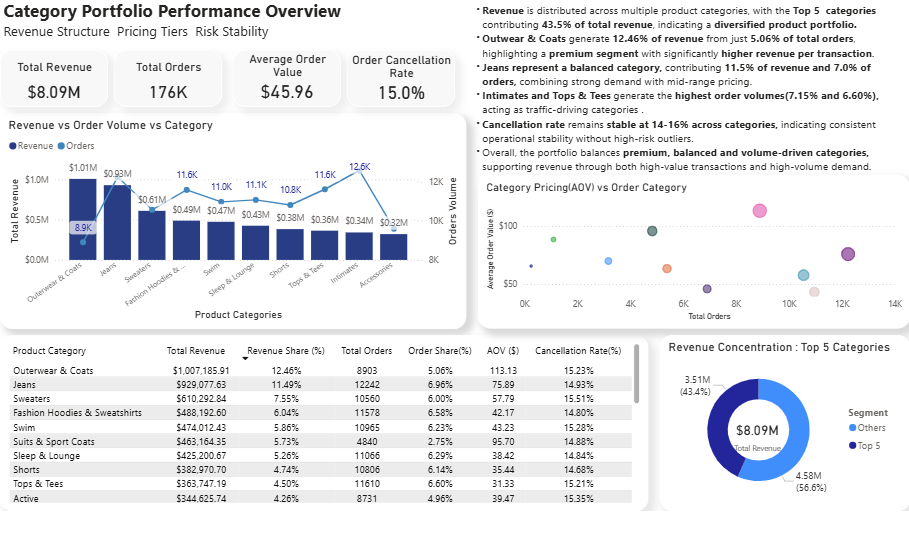

The page's visual inventory and layout, read from the dashboard file:
{"tool":"powerbi","page":{"name":"Category Portfolio","canvas":[1280,720],"ordinal":0},"visuals":[{"type":"card","title":"Total Revenue","fields":{"Values":["final_category_performance.Total Revenue"]},"box":[0,72,152,80],"z":0,"group":"g1"},{"type":"lineClusteredColumnComboChart","title":"Revenue vs Order Volume vs Category","fields":{"Category":["final_category_performance.product_category"],"Y":["final_category_performance.Total Revenue"],"Y2":["Sum(final_category_performance.total_orders)"]},"box":[0,160,656,304],"z":0},{"type":"card","title":"Total Orders","fields":{"Values":["final_category_performance.Total Orders"]},"box":[160,72,152,80],"z":1000,"group":"g1"},{"type":"tableEx","fields":{"Values":["final_category_performance.product_category","final_category_performance.Total Revenue","Sum(final_category_performance.revenue_share)","final_category_performance.Total Orders","Sum(final_category_performance.order_share)","Sum(final_category_performance.AOV)","Sum(final_category_performance.cancellation_rate)"]},"box":[0,472,912,248],"z":1000},{"type":"group","id":"g1","title":"Group 1","box":[0,72,640,80],"z":2000},{"type":"card","title":"Average Order Value","fields":{"Values":["final_category_performance.Comapany AOV"]},"box":[328,72,152,80],"z":2000,"group":"g1"},{"type":"textbox","box":[0,0,704,64],"z":3000},{"type":"card","title":"Order Cancellation Rate","fields":{"Values":["final_category_performance.Overall Cancellation Rate"]},"box":[488,72,152,80],"z":3000,"group":"g1"},{"type":"textbox","box":[656,0,624,272],"z":4000},{"type":"scatterChart","title":"Category Pricing(AOV) vs Order Category","fields":{"X":["final_category_performance.Total Orders"],"Y":["final_category_performance.Comapany AOV"],"Size":["final_category_performance.Total Revenue"],"Series":["final_category_performance.product_category"]},"box":[672,248,608,216],"z":5000},{"type":"donutChart","title":"Revenue Concentration : Top 5 Categories","fields":{"Category":["Revenue Split.Segment"],"Y":["Revenue Split.Revenue Split Value"]},"box":[928,472,352,248],"z":6000},{"type":"card","fields":{"Values":["final_category_performance.Total Revenue"]},"box":[1026,574,80,80],"z":7000}]}

Visuals, with their boxes on the page's 1280x720 design canvas (x1, y1, x2, y2). These are canvas units, not pixel positions in the 909x550 screenshot, which may show the page scaled, cropped or inside an application window:
"Total Revenue" card: 0,72,152,152
"Revenue vs Order Volume vs Category" lineClusteredColumnComboChart: 0,160,656,464
"Total Orders" card: 160,72,312,152
tableEx - final_category_performance.product_category x final_category_performance.Total Revenue: 0,472,912,720
"Group 1" group: 0,72,640,152
"Average Order Value" card: 328,72,480,152
textbox: 0,0,704,64
"Order Cancellation Rate" card: 488,72,640,152
textbox: 656,0,1280,272
"Category Pricing(AOV) vs Order Category" scatterChart: 672,248,1280,464
"Revenue Concentration : Top 5 Categories" donutChart: 928,472,1280,720
card - final_category_performance.Total Revenue: 1026,574,1106,654
